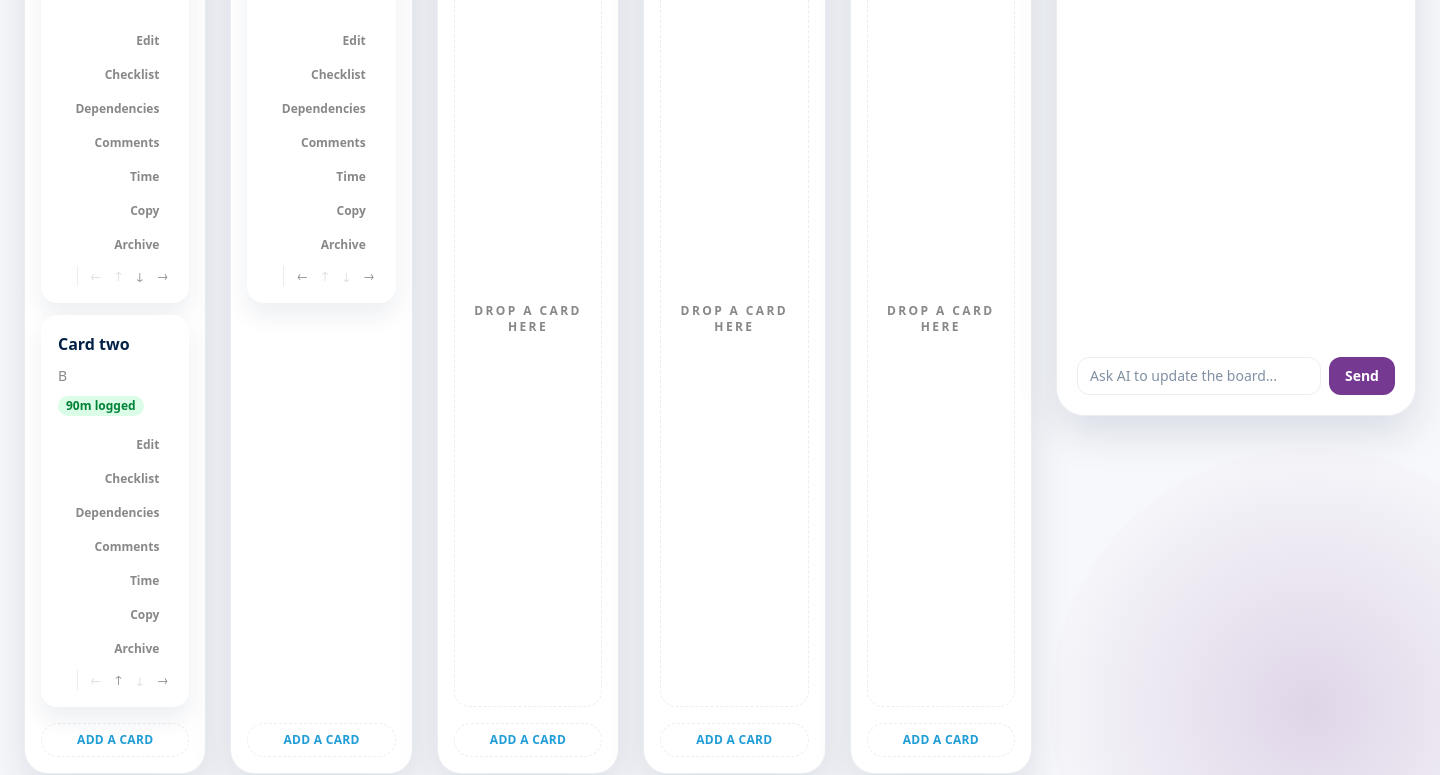
KanbanBoard › sends chat and refreshes board from AI response
(page scrolled)
Step 1. Type "rename board" into the field named "AI chat message" → (1199, 376), box [1077, 357, 1321, 395]
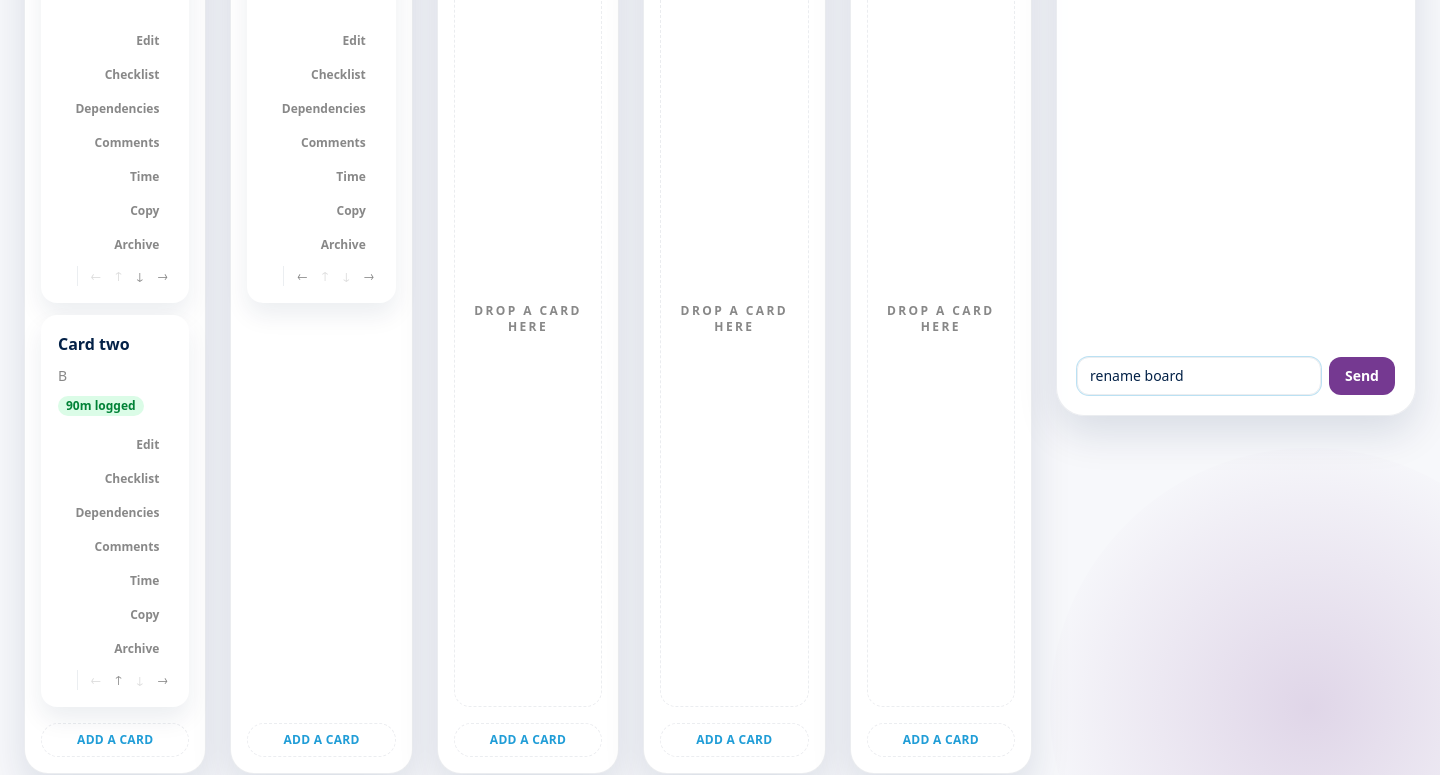
Step 2. Click the button "Send" → (1362, 376), box [1329, 357, 1395, 395]
(page scrolled)
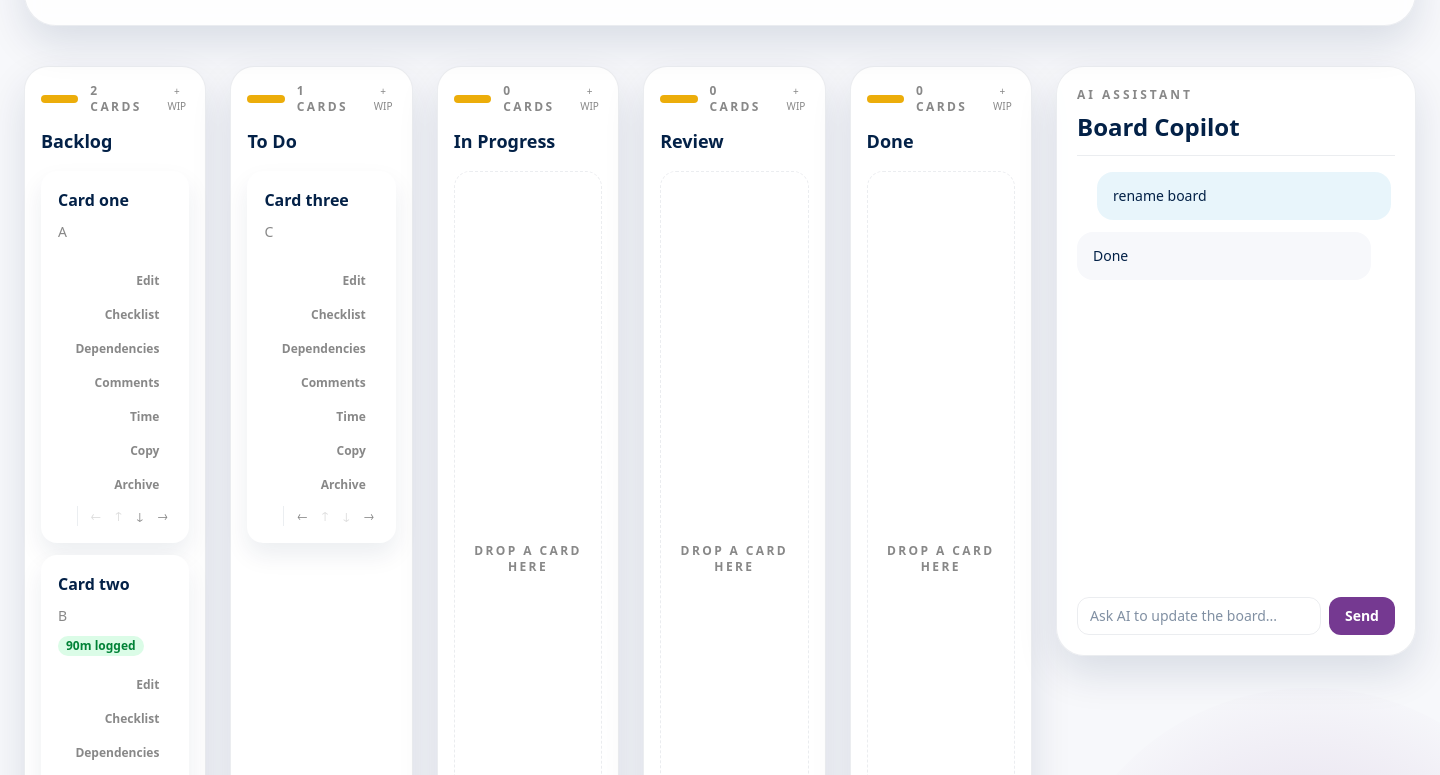
Expected: the element with test id "chat-messages" shows "Done", [1093, 246, 1128, 265]
